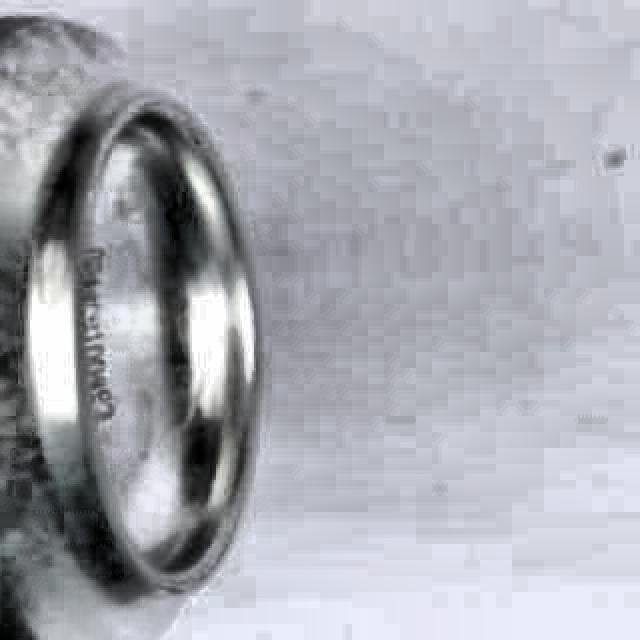metal: (0, 14, 266, 640)
